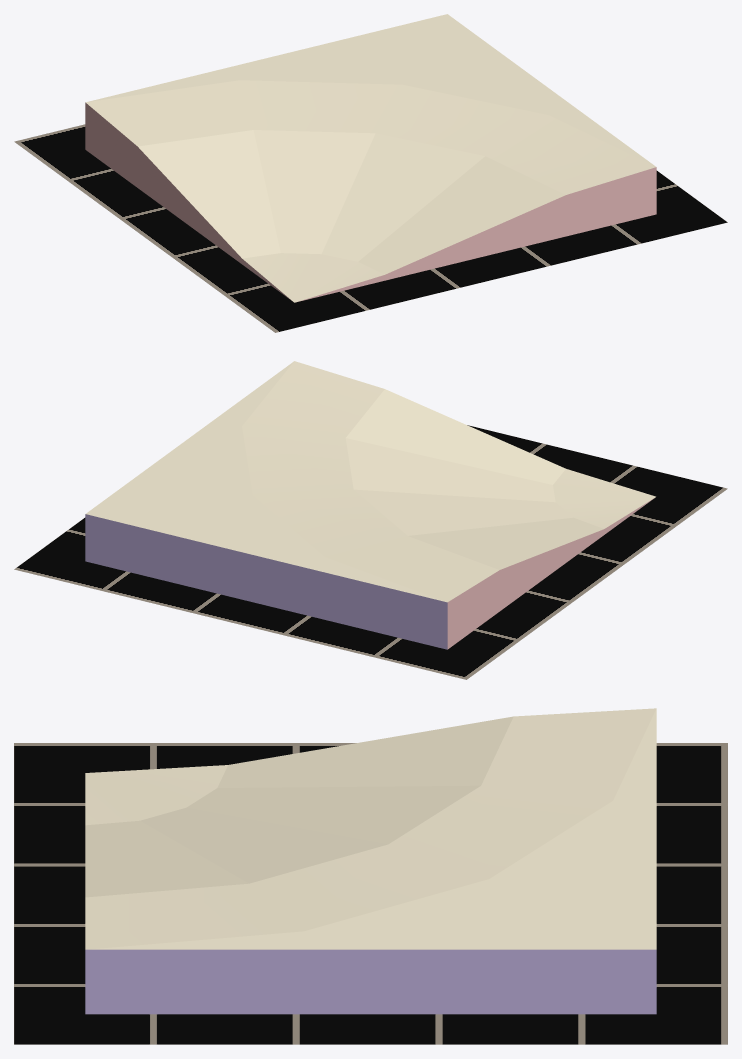
Rendered from Terrain_Sand_Incline_Curve_Inner_4x4.glb.
3 views of the same model, one above another, from view 1: azimuth 30°, elevation 25°; view 2: azimuth 150°, elevation 25°; view 3: azimuth 270°, elevation 25° (orthographic). The views are drawn at different scales.
Visible parts, largest first — view 1: Terrain_Sand_Incline_Curve_Inner_4x4, Floor; view 2: Terrain_Sand_Incline_Curve_Inner_4x4, Floor; view 3: Terrain_Sand_Incline_Curve_Inner_4x4, Floor.
Part boxes in pixels (x1,y1,x2,y2): Terrain_Sand_Incline_Curve_Inner_4x4: (85,14,656,302); Floor: (14,124,727,332); Terrain_Sand_Incline_Curve_Inner_4x4: (85,361,655,649); Floor: (14,425,727,679); Terrain_Sand_Incline_Curve_Inner_4x4: (85,708,656,1014); Floor: (14,743,727,1044).
Size of the model in its own units: 500 by 50 by 500.
5 materials, 1 textured.
